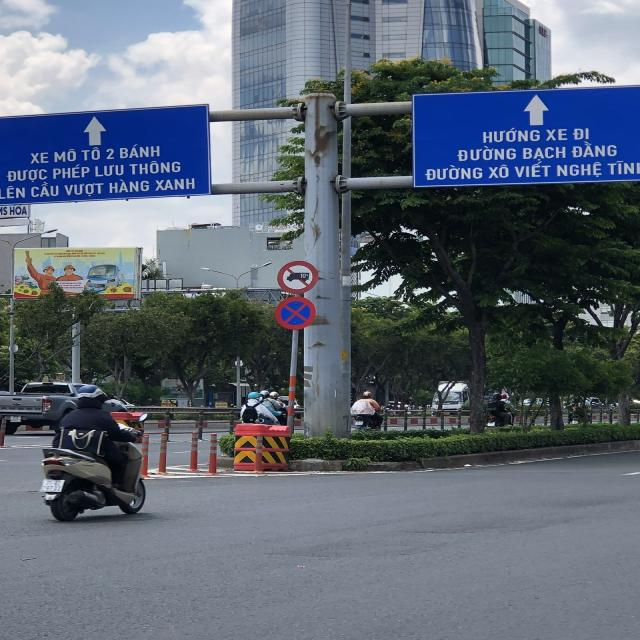Bien bao cam dung xe va do xe: (270, 295, 325, 332)
Bien bao cam xe oto tai: (274, 255, 322, 295)
